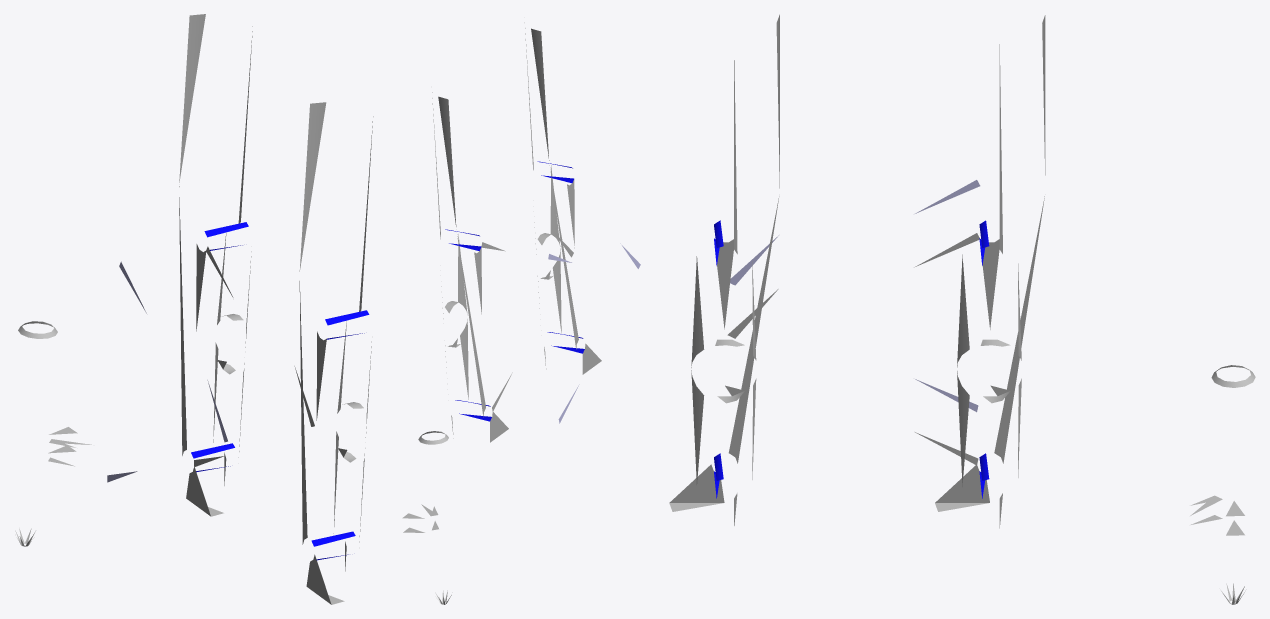
The picture shows the model from 3 angles, left to right: view 1: azimuth 30°, elevation 25°; view 2: azimuth 150°, elevation 25°; view 3: azimuth 270°, elevation 25°; orthographic projection. The views are drawn at different scales.
Parts seen in each view (by area): view 1: F19721000063102000115_001_zb_ub_stiftzieher_15_ba (×2); view 2: F19721000063102000115_001_zb_ub_stiftzieher_15_ba (×2); view 3: F19721000063102000115_001_zb_ub_stiftzieher_15_ba (×3).
Boxes of the visible parts, bbox=[...] form: F19721000063102000115_001_zb_ub_stiftzieher_15_ba (×2): bbox=[15, 14, 373, 604]; F19721000063102000115_001_zb_ub_stiftzieher_15_ba (×2): bbox=[402, 22, 601, 604]; F19721000063102000115_001_zb_ub_stiftzieher_15_ba (×3): bbox=[669, 14, 1255, 604].
Size of the model in its own units: 44.84 by 132 by 158.
